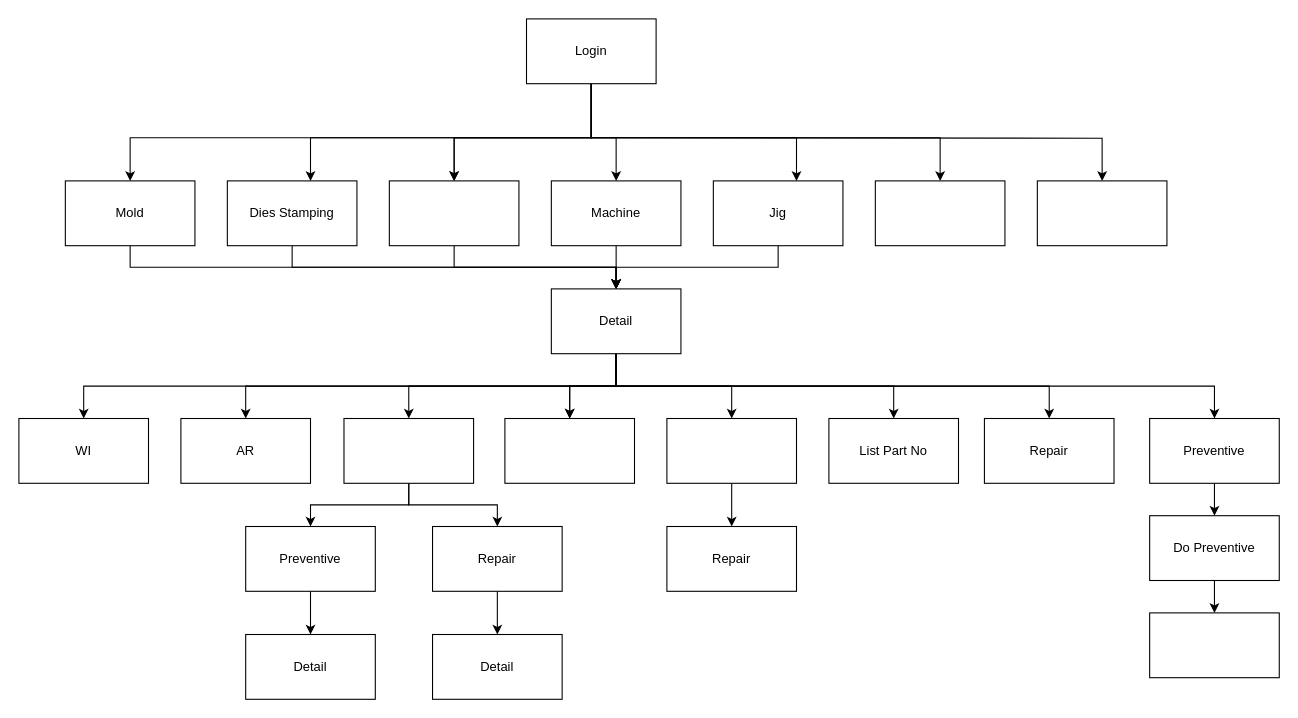
Some shapes in this 1298 by 718 pixel diagram are drawn without their labels. Each missing label, with the centre of its shape:
Augmented: (1101,213)
Check sheet: (1214,645)
Dies Doorframe: (453,213)
Drawing: (569,450)
Electrode: (939,213)
Historical: (408,450)
Other (FTA): (731,450)
